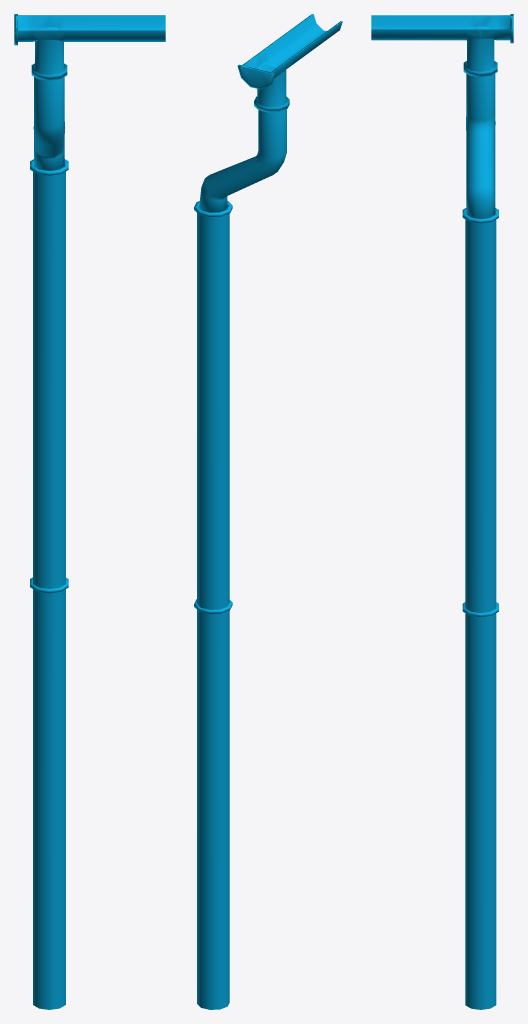
The model's file is Gutter_End_02.fbx.
The picture shows the model from 3 angles, left to right: view 1: azimuth 90°, elevation 25°; view 2: azimuth 150°, elevation 25°; view 3: azimuth 270°, elevation 25°; orthographic projection. The views are drawn at different scales.
Visible parts, largest first — view 1: Gutter_End_02; view 2: Gutter_End_02; view 3: Gutter_End_02.
Part boxes in pixels (<box>): Gutter_End_02: <box>14,14,165,1009</box>; Gutter_End_02: <box>194,14,342,1009</box>; Gutter_End_02: <box>371,14,513,1009</box>.
Bounding box in the file's own units: 36.83 × 360 × 48.83.
